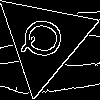Q: (19, 15, 73, 63)
